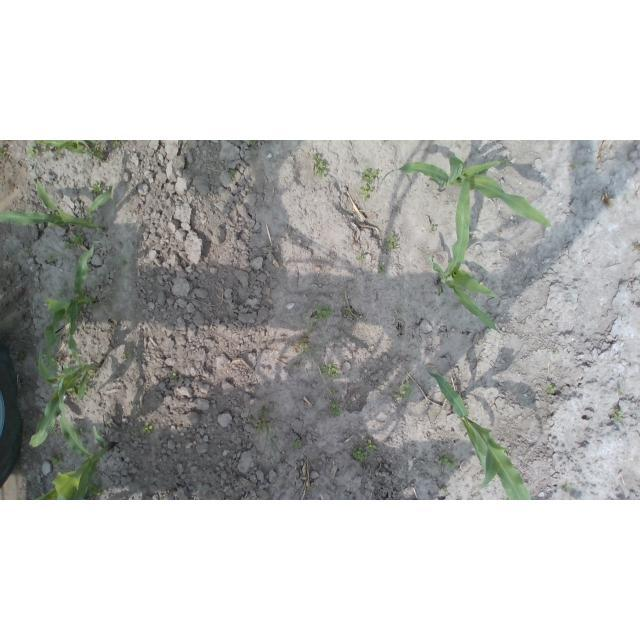Maize: (427, 368, 535, 500), (380, 153, 553, 228), (427, 175, 505, 338), (29, 296, 103, 448), (29, 376, 115, 501), (44, 241, 105, 380), (0, 170, 112, 230), (41, 140, 106, 162)
Weeds: (247, 411, 269, 434), (312, 304, 336, 324), (312, 154, 328, 179), (392, 384, 413, 401), (439, 452, 457, 471), (361, 168, 380, 184), (319, 364, 337, 379), (351, 447, 367, 462), (386, 232, 399, 249), (47, 453, 62, 467), (360, 185, 373, 201), (88, 481, 101, 496), (364, 439, 376, 455), (140, 422, 153, 436), (72, 232, 85, 245), (92, 181, 104, 195), (27, 143, 39, 156), (613, 409, 624, 423), (544, 382, 556, 394), (331, 404, 342, 417), (291, 436, 302, 449), (299, 343, 311, 353), (66, 387, 78, 397), (1, 140, 8, 157), (120, 256, 129, 268), (75, 427, 85, 437), (561, 484, 571, 493), (98, 144, 105, 156), (25, 248, 34, 257), (112, 141, 123, 148), (356, 253, 364, 262), (59, 287, 66, 297), (377, 268, 385, 276), (171, 372, 179, 380), (64, 241, 72, 249), (75, 380, 82, 389), (48, 253, 55, 262), (84, 384, 89, 396), (345, 308, 351, 317), (501, 159, 510, 165), (441, 486, 448, 493), (42, 146, 49, 153), (250, 141, 257, 148), (48, 222, 56, 228), (552, 349, 560, 355), (431, 224, 437, 232), (231, 172, 236, 181), (329, 389, 336, 395), (127, 351, 132, 359), (571, 164, 579, 169), (618, 388, 623, 395), (271, 439, 276, 445), (89, 370, 93, 376), (96, 304, 101, 308)
